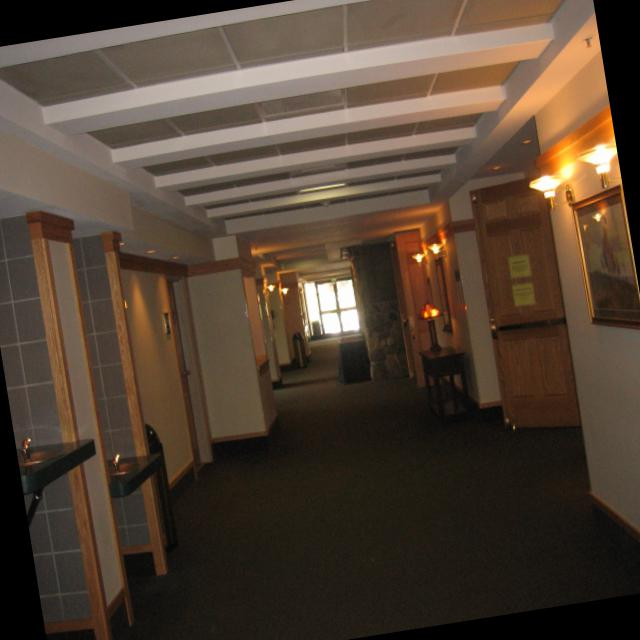painting crop: (570, 183, 640, 330)
